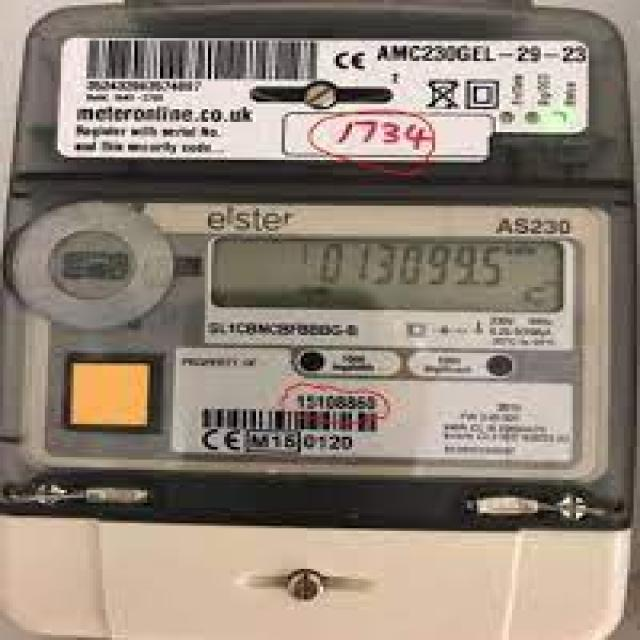0: (316, 243, 346, 292)
1: (352, 244, 373, 288)
3: (372, 242, 396, 289)
5: (482, 246, 507, 289)
9: (426, 242, 453, 298), (458, 244, 480, 295)
Digital meter: (215, 242, 562, 312)
